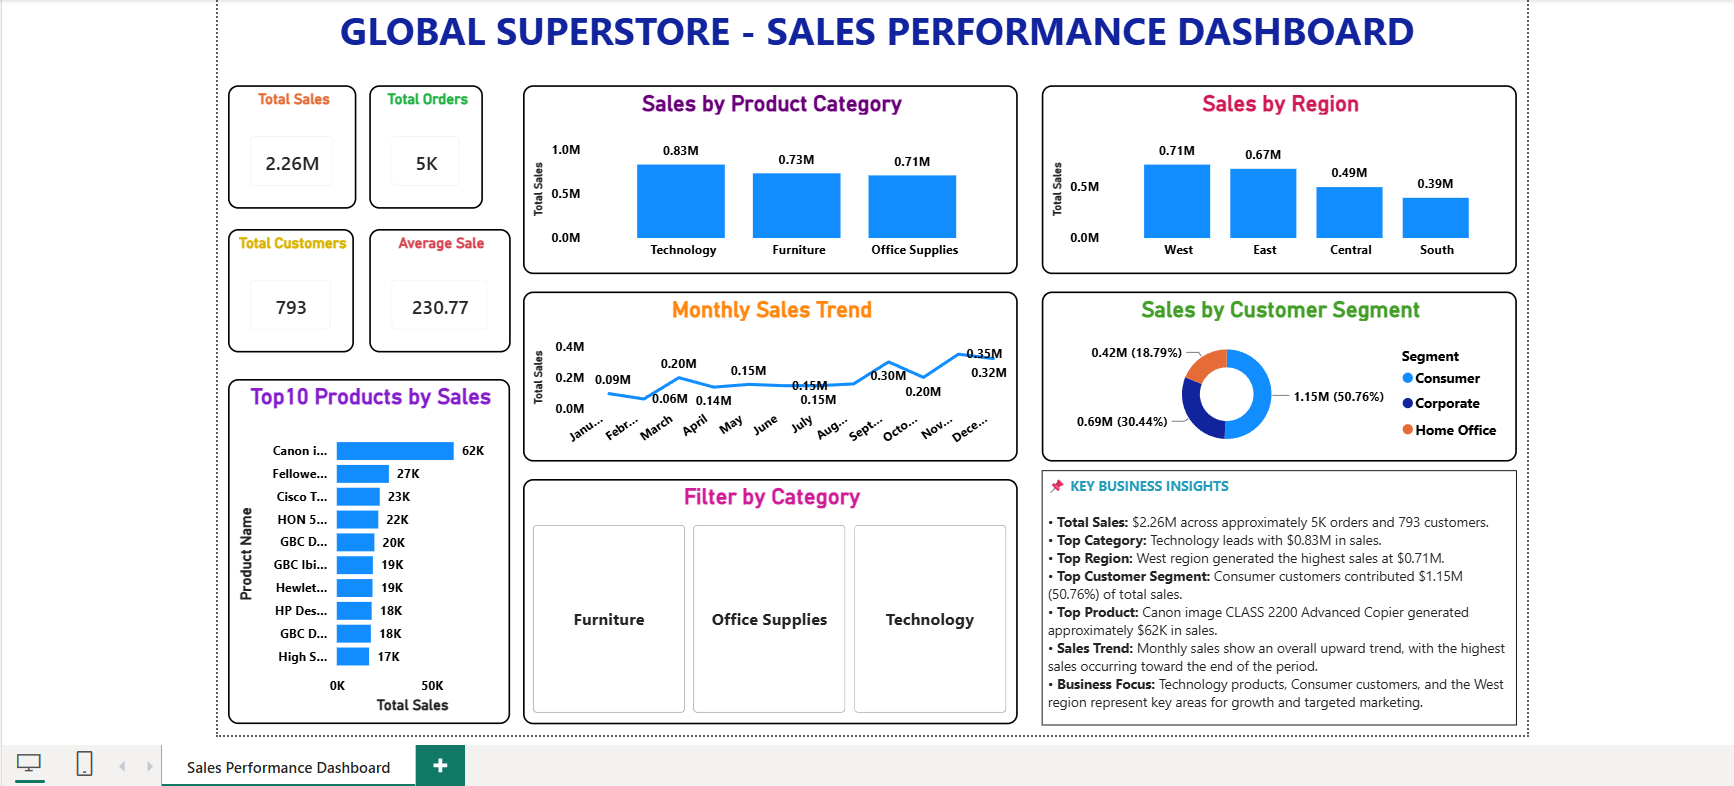

This screenshot's page, from the dashboard's own definition file:
{"tool":"powerbi","page":{"name":"Sales Performance Dashboard","canvas":[1280,720],"ordinal":0},"visuals":[{"type":"textbox","box":[47.7,0,1194.7,66],"z":0},{"type":"cardVisual","title":"Total Sales","fields":{"Data":["train.Total Sales"]},"box":[9.8,84.4,126,121.1],"z":1000},{"type":"cardVisual","title":"Total Orders","fields":{"Data":["train.Total Orders"]},"box":[148,84.4,111.3,121.1],"z":2000},{"type":"cardVisual","title":"Total Customers","fields":{"Data":["train.Total Customers"]},"box":[9.8,225,123.5,121.1],"z":3000},{"type":"cardVisual","title":"Average Sale","fields":{"Data":["train.Average Sales"]},"box":[148,225,138.2,121.1],"z":4000},{"type":"clusteredColumnChart","title":"Sales by Product Category","fields":{"Category":["train.Category"],"Y":["train.Total Sales"]},"box":[298.4,84.4,484.2,184.6],"z":5000},{"type":"clusteredColumnChart","title":"Sales by Region","fields":{"Category":["train.Region"],"Y":["train.Total Sales"]},"box":[805.8,84.4,464.7,184.6],"z":6000},{"type":"lineChart","title":"Monthly Sales Trend","fields":{"Category":["train.Order Date.Variation.Date Hierarchy.Month"],"Y":["train.Total Sales"]},"box":[298.4,286.1,484.2,166.3],"z":7000},{"type":"donutChart","title":"Sales by Customer Segment","fields":{"Category":["train.Segment"],"Y":["train.Total Sales"]},"box":[805.8,286.1,464.7,166.3],"z":8000},{"type":"clusteredBarChart","title":"Top10 Products by Sales","fields":{"Category":["train.Product Name"],"Y":["train.Total Sales"]},"box":[9.8,371.7,276.4,337.5],"z":9000},{"type":"advancedSlicerVisual","title":"Filter by Category","fields":{"Values":["train.Category"]},"box":[298.4,469.6,484.2,239.7],"z":10000},{"type":"textbox","box":[805.8,461,464.7,249.5],"z":10001}]}

Visuals, with their boxes on the page's 1280x720 design canvas (x1, y1, x2, y2). These are canvas units, not pixel positions in the 1734x786 screenshot, which may show the page scaled, cropped or inside an application window:
textbox: x1=48, y1=0, x2=1242, y2=66
"Total Sales" cardVisual: x1=10, y1=84, x2=136, y2=206
"Total Orders" cardVisual: x1=148, y1=84, x2=259, y2=206
"Total Customers" cardVisual: x1=10, y1=225, x2=133, y2=346
"Average Sale" cardVisual: x1=148, y1=225, x2=286, y2=346
"Sales by Product Category" clusteredColumnChart: x1=298, y1=84, x2=783, y2=269
"Sales by Region" clusteredColumnChart: x1=806, y1=84, x2=1270, y2=269
"Monthly Sales Trend" lineChart: x1=298, y1=286, x2=783, y2=452
"Sales by Customer Segment" donutChart: x1=806, y1=286, x2=1270, y2=452
"Top10 Products by Sales" clusteredBarChart: x1=10, y1=372, x2=286, y2=709
"Filter by Category" advancedSlicerVisual: x1=298, y1=470, x2=783, y2=709
textbox: x1=806, y1=461, x2=1270, y2=710
